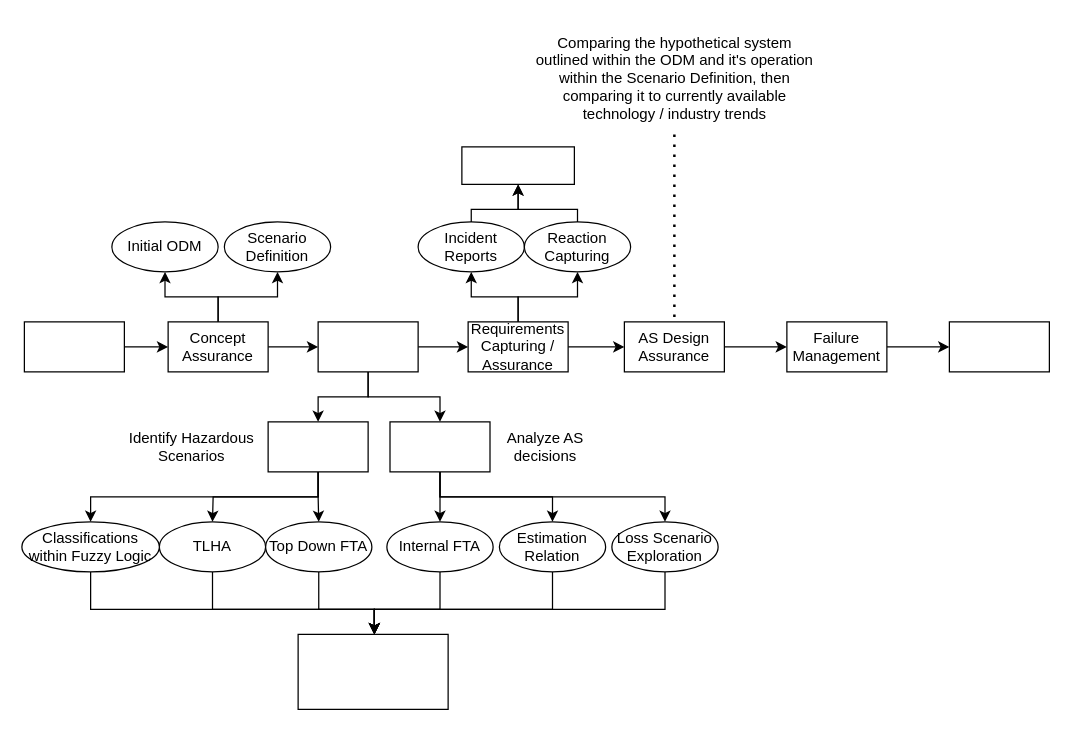
This 1071x731 diagram has some shape labels left out. Here are the shapes that lost their labels. From the top down, the centre of each, then its label:
At point (517, 165): "Recreate ODM".
At point (73, 346): "Concept".
At point (367, 346): "Hazard Identification".
At point (998, 346): "Limitation Expression".
At point (317, 446): "Real World Hazard".
At point (439, 446): "Digital Hazard".
At point (372, 671): "Must Validate ODM".
